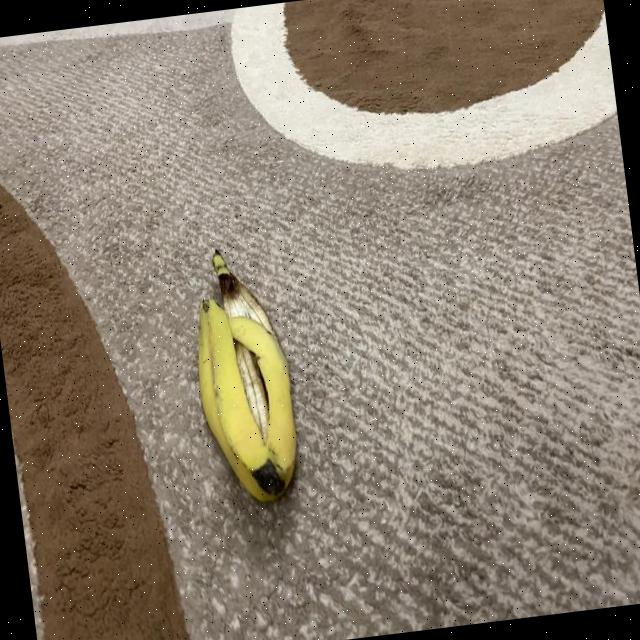banana-peel: (180, 241, 306, 510)
